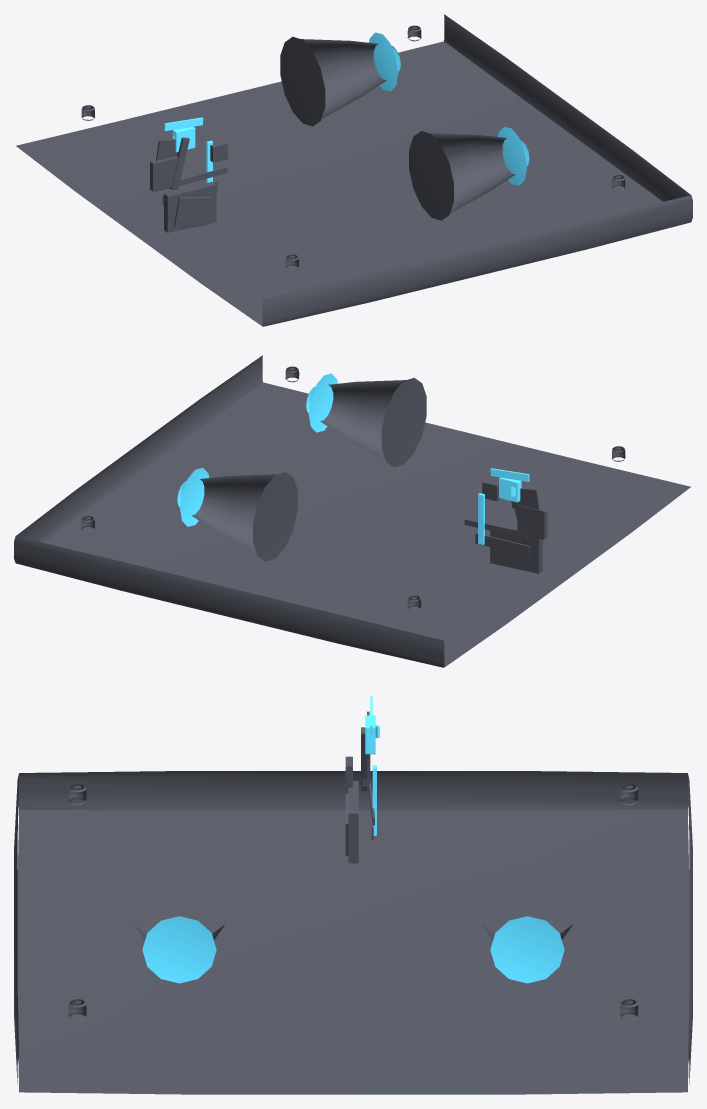
File: greeble_rcs.glb
3 renders of one model, top to bottom at view 1: azimuth 30°, elevation 25°; view 2: azimuth 150°, elevation 25°; view 3: azimuth 270°, elevation 25°, orthographic. The views are drawn at different scales.
Parts seen in each view (by area): view 1: RCS_Base, greeble_rcs_Material_Mechanical_Merged, greeble_rcs_Material_Accent_Merged, DET_mount_flange, DET_dock_scuff, DET_reaction_block; view 2: RCS_Base, greeble_rcs_Material_Mechanical_Merged, greeble_rcs_Material_Accent_Merged, DET_mount_flange, DET_reaction_block, DET_rivet_row; view 3: RCS_Base, greeble_rcs_Material_Accent_Merged, greeble_rcs_Material_Mechanical_Merged, DET_mount_flange.
Part boxes in pixels (bbox=[...]): RCS_Base: bbox=[16, 14, 692, 326]; greeble_rcs_Material_Mechanical_Merged: bbox=[81, 25, 625, 270]; greeble_rcs_Material_Accent_Merged: bbox=[369, 32, 529, 185]; DET_mount_flange: bbox=[164, 182, 216, 232]; DET_dock_scuff: bbox=[174, 196, 211, 227]; DET_reaction_block: bbox=[150, 156, 180, 191]; RCS_Base: bbox=[14, 355, 690, 667]; greeble_rcs_Material_Mechanical_Merged: bbox=[81, 366, 625, 611]; greeble_rcs_Material_Accent_Merged: bbox=[177, 373, 337, 526]; DET_mount_flange: bbox=[490, 523, 542, 573]; DET_reaction_block: bbox=[517, 505, 547, 539]; DET_rivet_row: bbox=[475, 533, 530, 556]; RCS_Base: bbox=[14, 771, 692, 1094]; greeble_rcs_Material_Accent_Merged: bbox=[142, 916, 564, 983]; greeble_rcs_Material_Mechanical_Merged: bbox=[68, 784, 638, 1020]; DET_mount_flange: bbox=[348, 781, 358, 863].
Size of the model in its own units: 3.2 by 0.8156 by 3.2.
